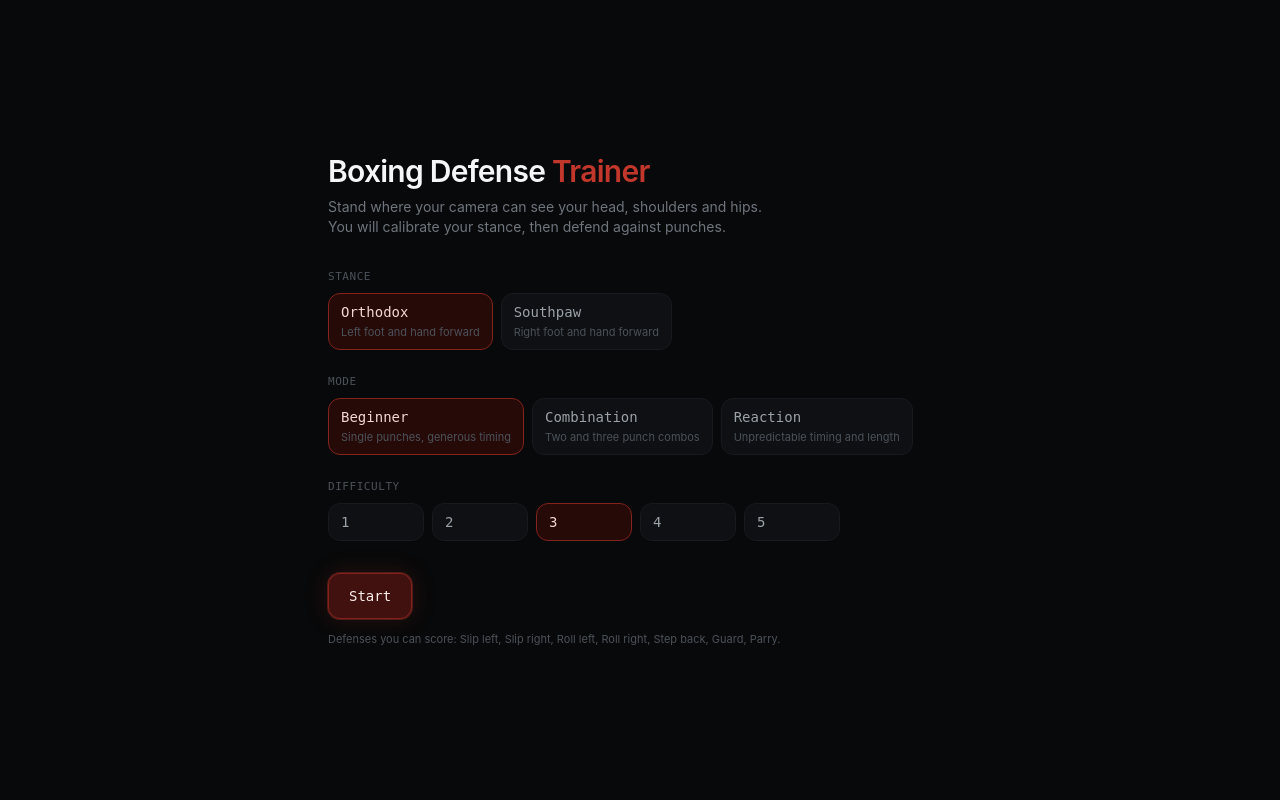
Test: the screen flow › lets the camera be hidden, per the uncluttered requirement
This screenshot has width=1280, height=800.
Click the button "Start": x=370, y=596 [328,573,412,619]
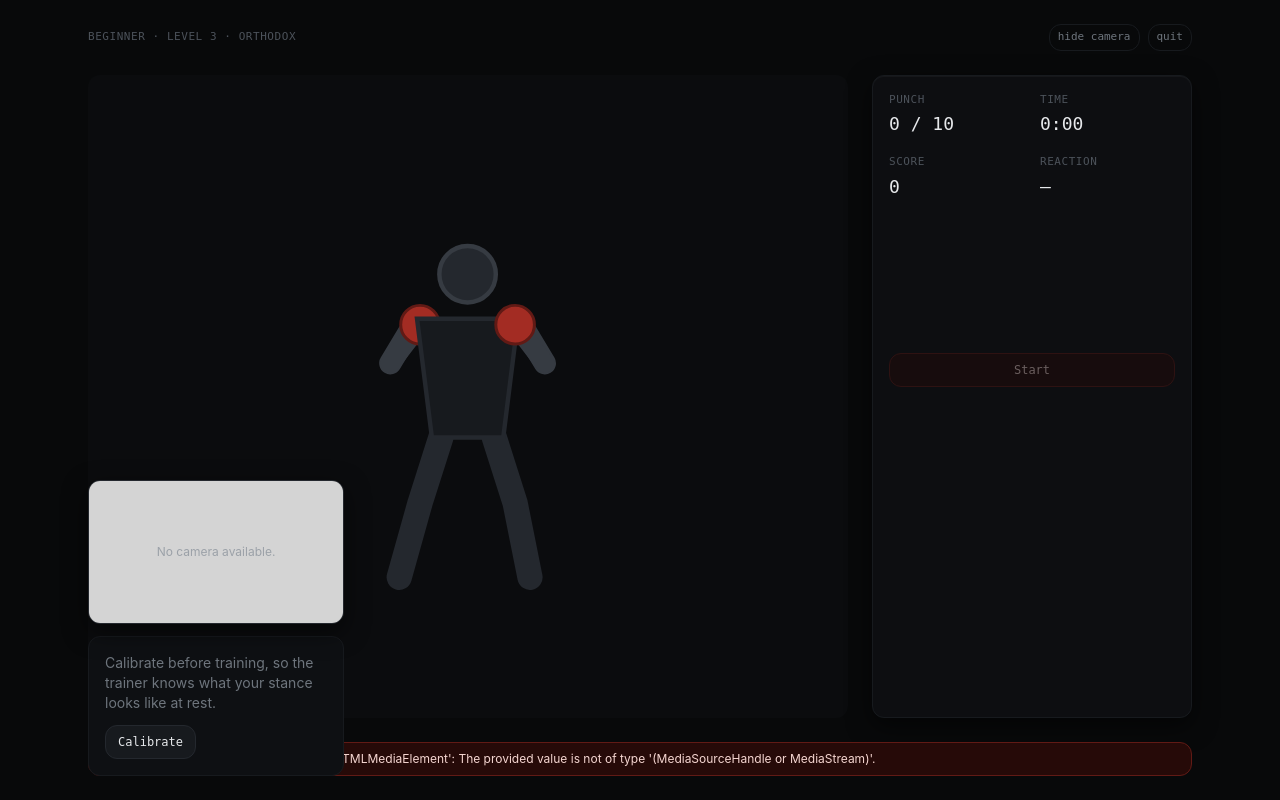
Click the button "hide camera": x=1094, y=37 [1049,24,1140,50]
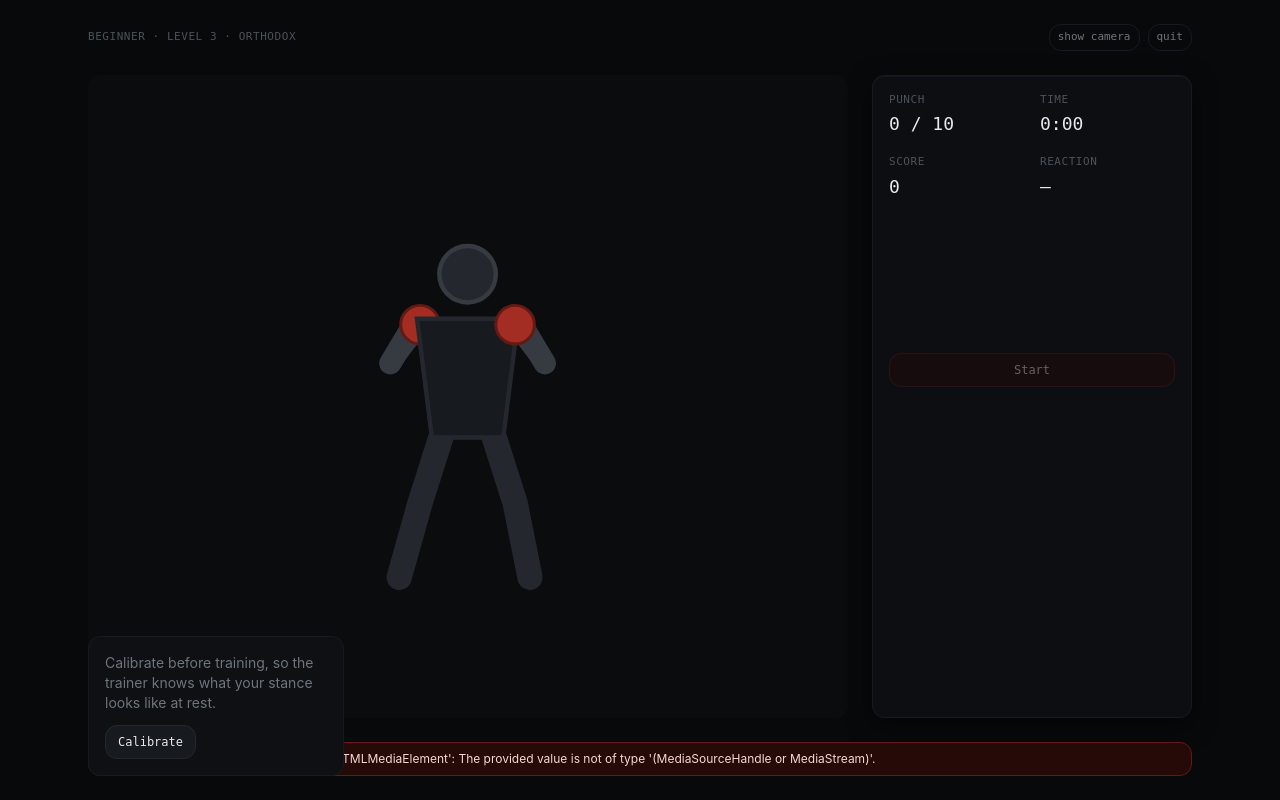
Now the element with test id "webcam-view" is gone
